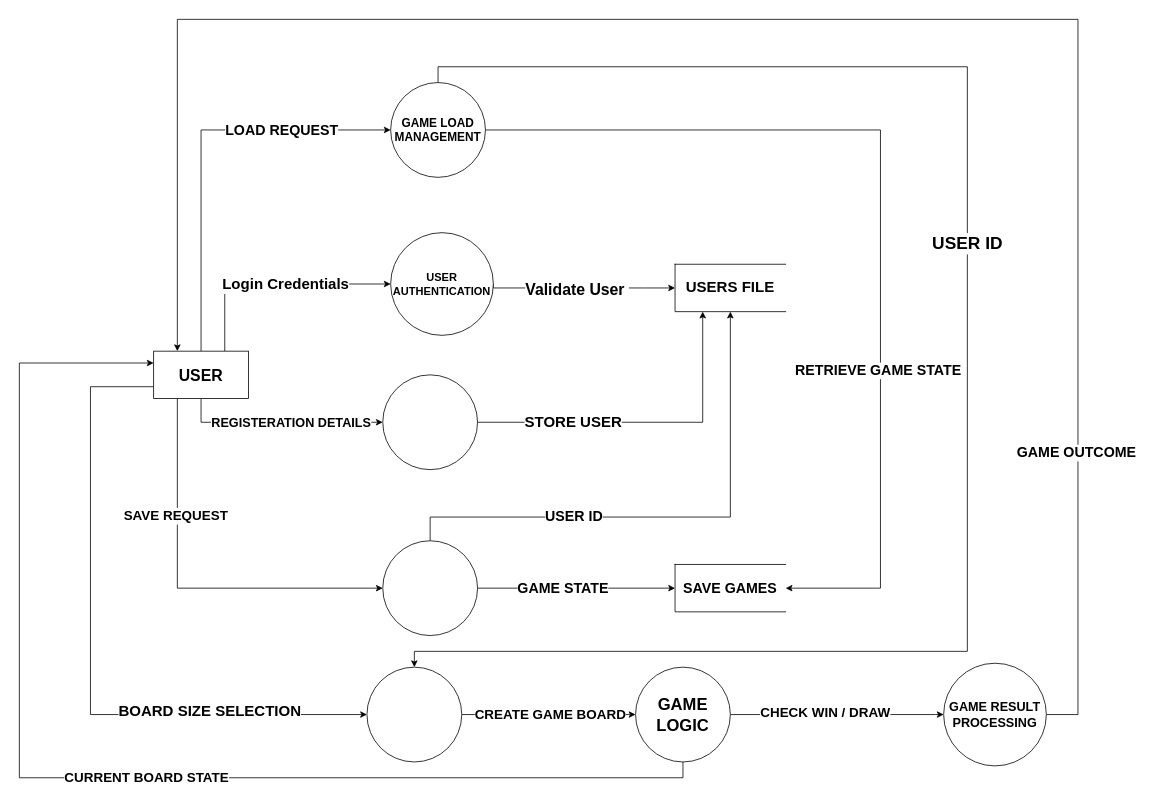
Some shapes in this 1149 by 799 pixel diagram are drawn without their labels. Each missing label, with the centre of its shape:
"GAME INITIALISATION" goes at point 414,714.
"GAME SAVE MANAGEMENT" goes at point 430,588.
"USER REGISTRATION" goes at point 430,422.
